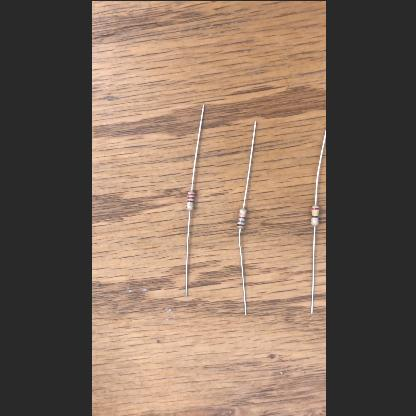resistor: (236, 207, 246, 227), (310, 204, 318, 226), (186, 191, 194, 210)
wire: (241, 119, 255, 206), (190, 104, 202, 191), (314, 128, 324, 204), (237, 228, 245, 314), (184, 210, 190, 296), (310, 226, 314, 312)
